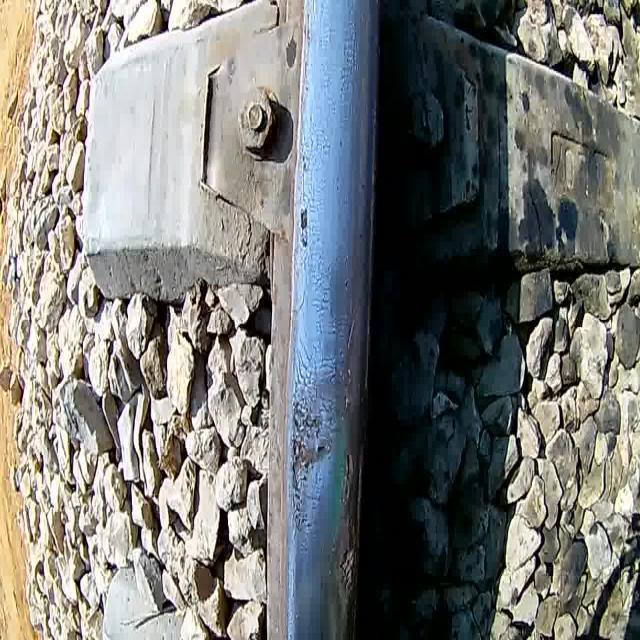Spallings: (288, 387, 334, 535), (338, 514, 358, 600), (337, 442, 357, 511)
Squats: (325, 436, 364, 640)
